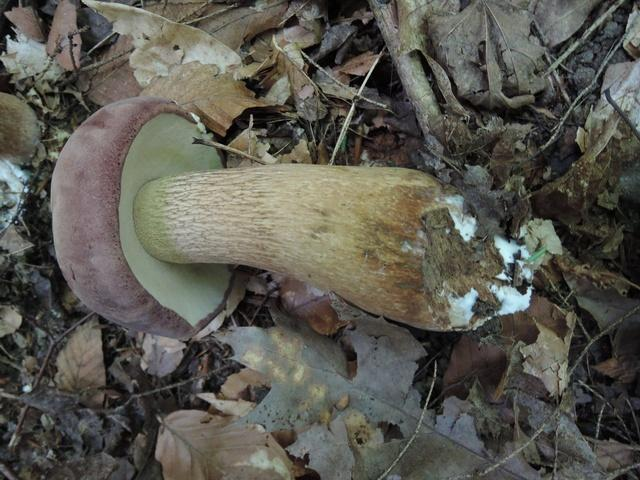poisonous_mushroom: (41, 93, 538, 351)
